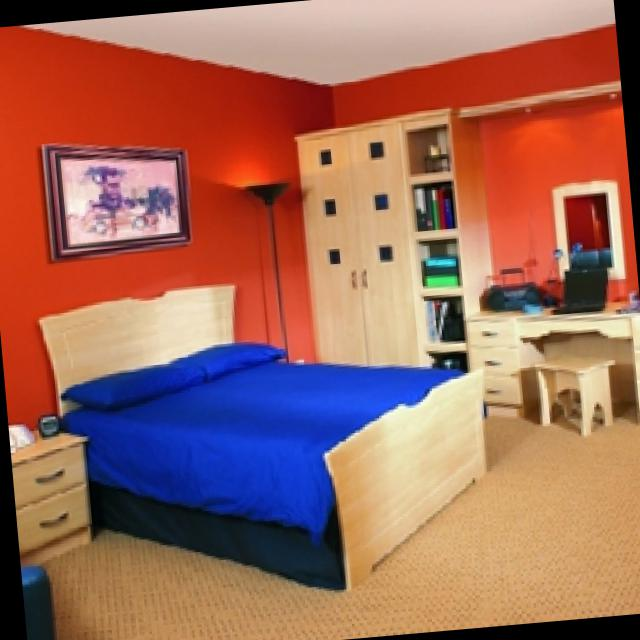alarm: (34, 411, 56, 432)
bed -occluded-: (36, 283, 484, 587)
bench crop: (529, 351, 610, 428)
bookcase crop: (398, 108, 492, 368)
books crop: (411, 181, 452, 224), (423, 296, 457, 336)
carpet floor: (43, 418, 640, 640)
ceiling beam: (23, 0, 606, 86)
desk calendar: (463, 305, 640, 423)
folders: (420, 256, 455, 283)
lamp crop: (243, 180, 284, 338)
laptop computer: (550, 263, 606, 312)
mirror crop: (549, 182, 620, 277)
night stand cabinet: (10, 428, 88, 560)
painting crop: (41, 144, 185, 259)
pillow occluded: (58, 359, 199, 404), (170, 339, 274, 375)
radio alarm clock: (473, 265, 541, 305)
wardrobe part: (289, 115, 424, 366)
